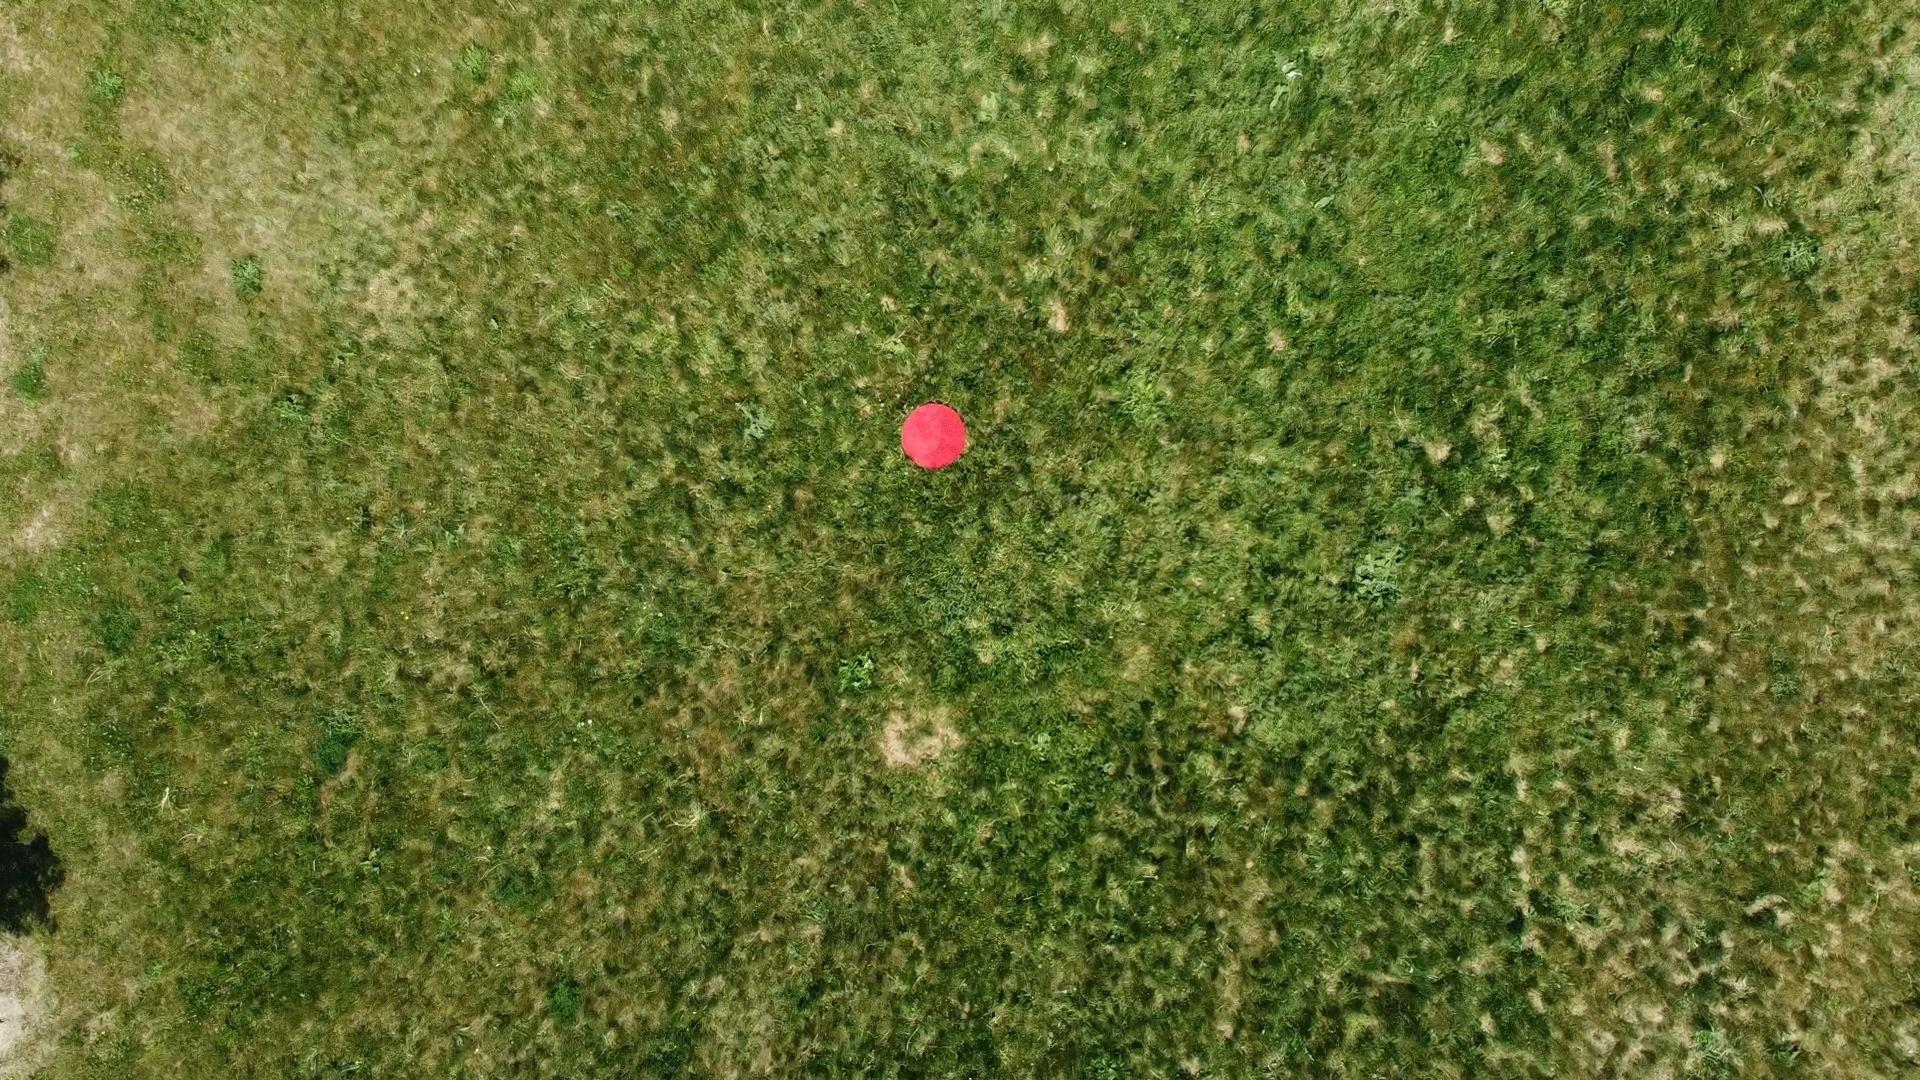Red: (899, 402, 969, 472)
